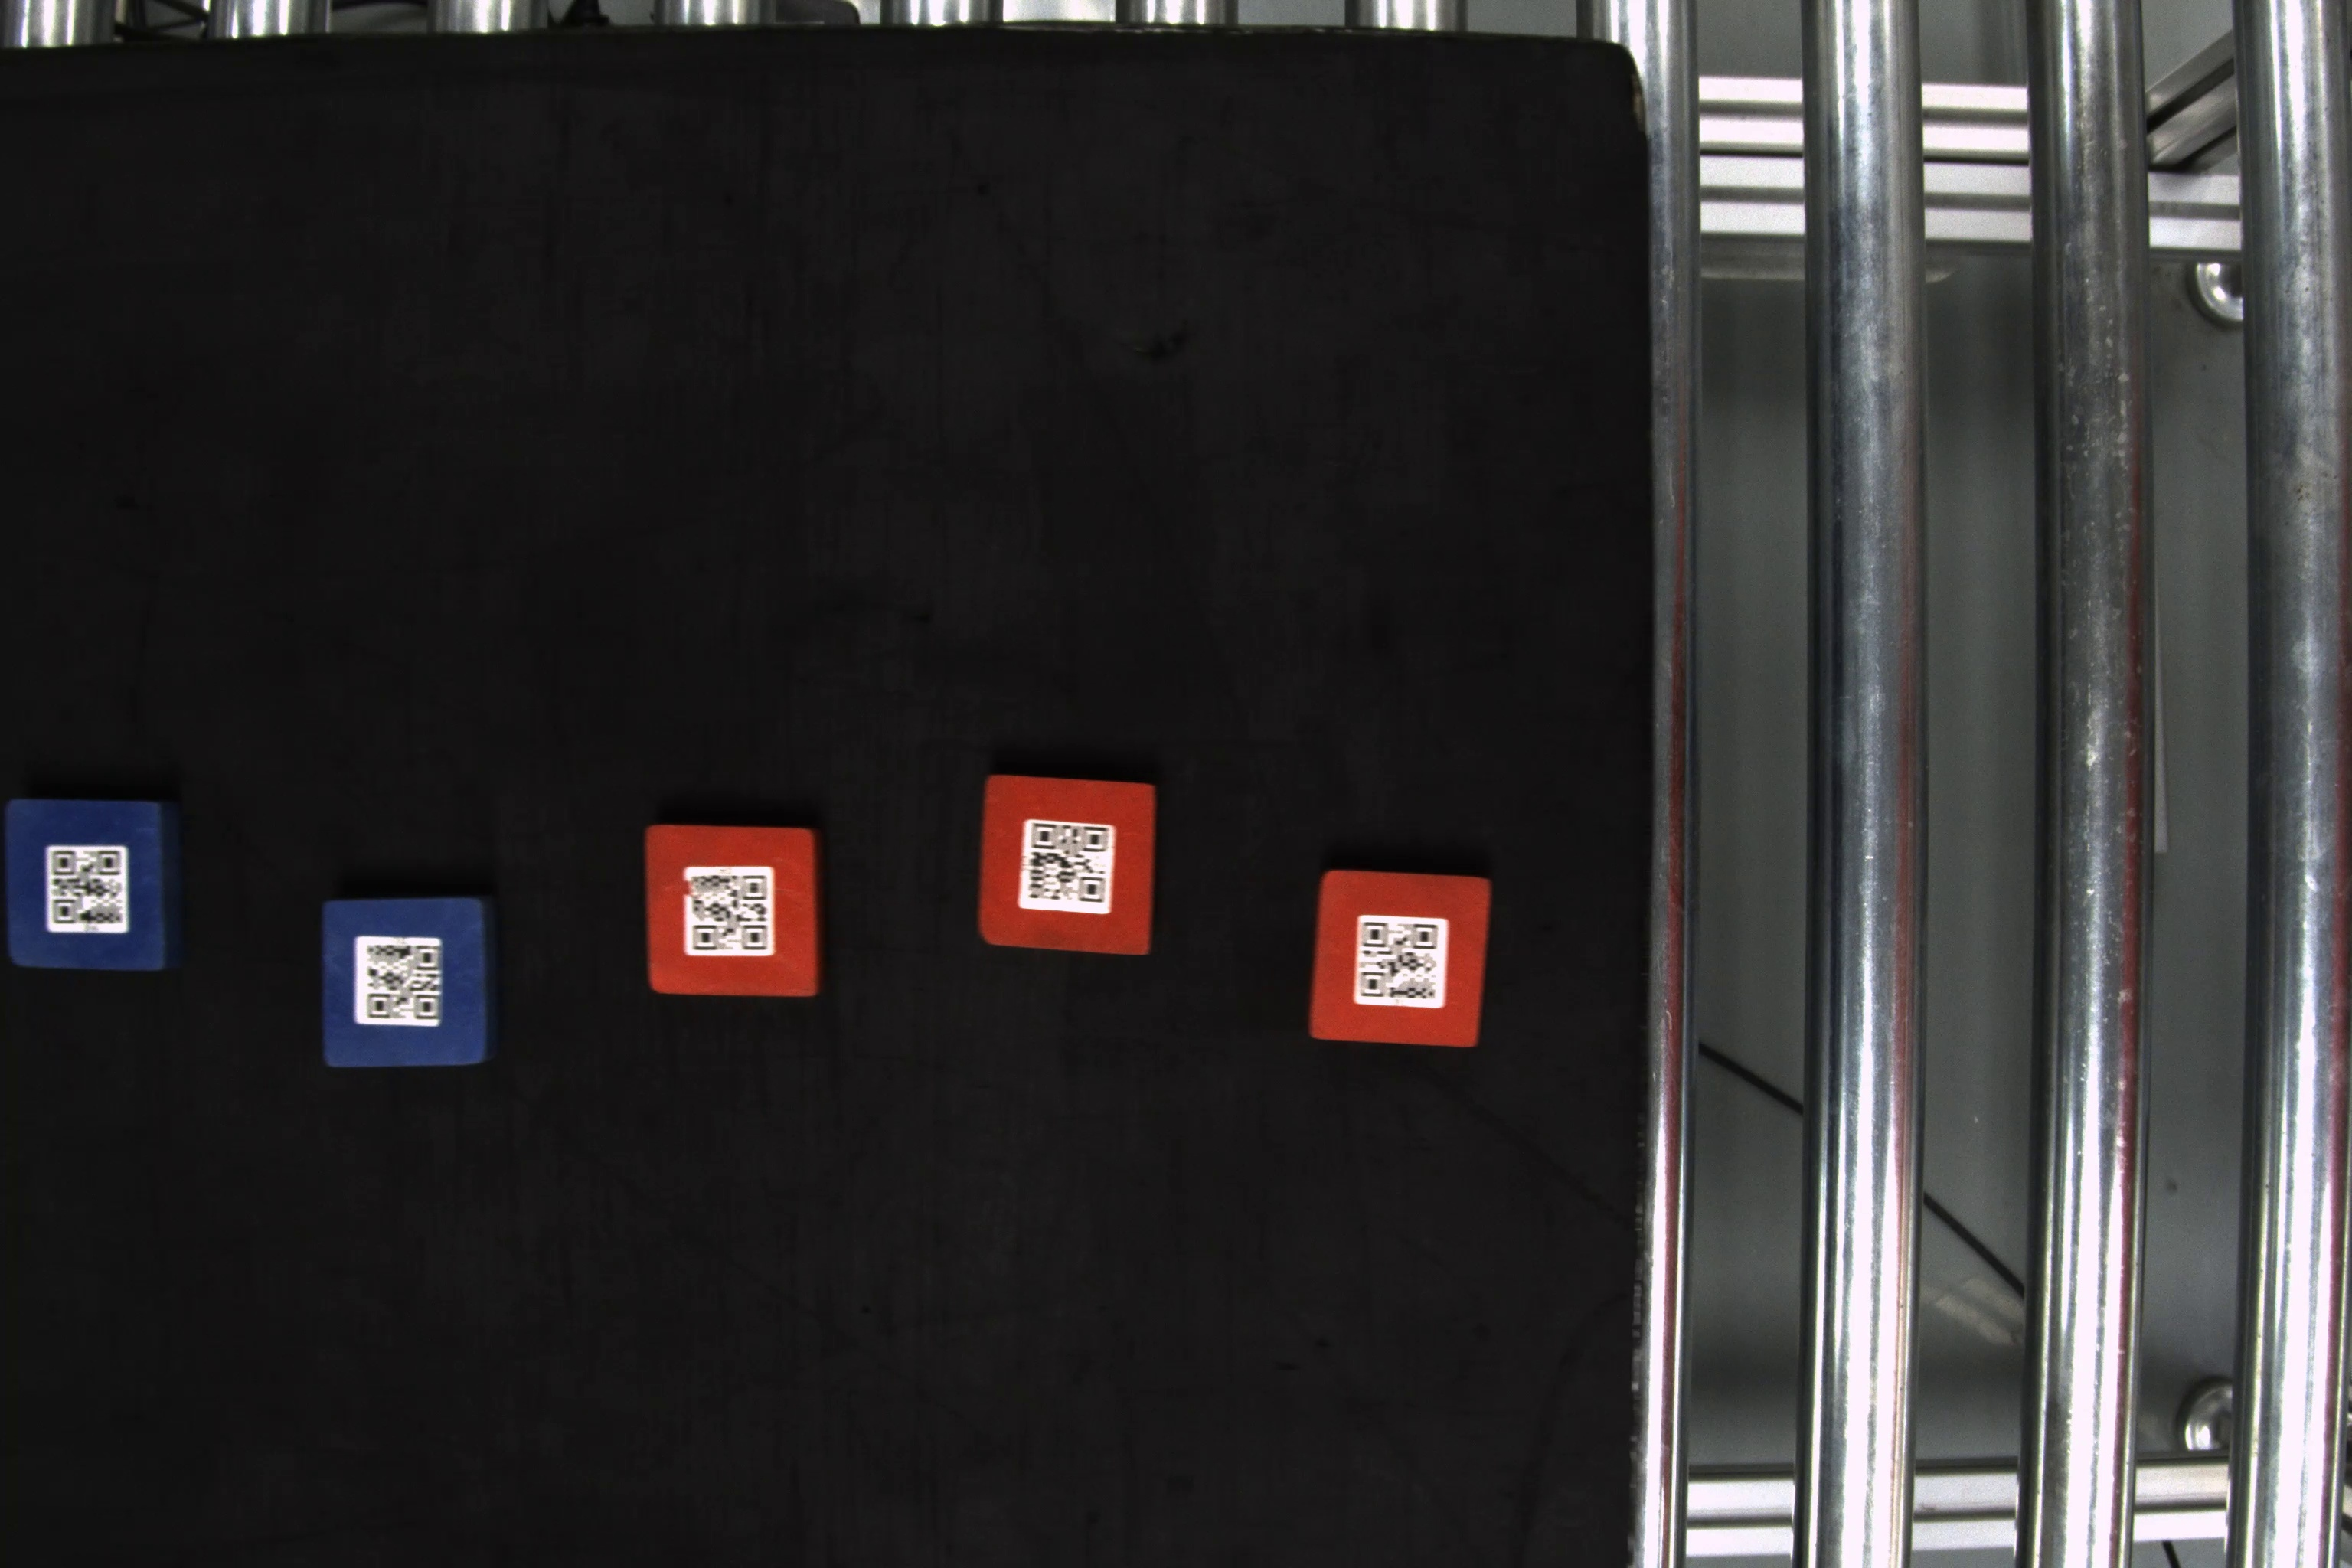wood: (639, 817, 831, 1006), (2, 793, 185, 982), (317, 889, 507, 1071), (975, 772, 1160, 957), (1318, 864, 1493, 1053)
